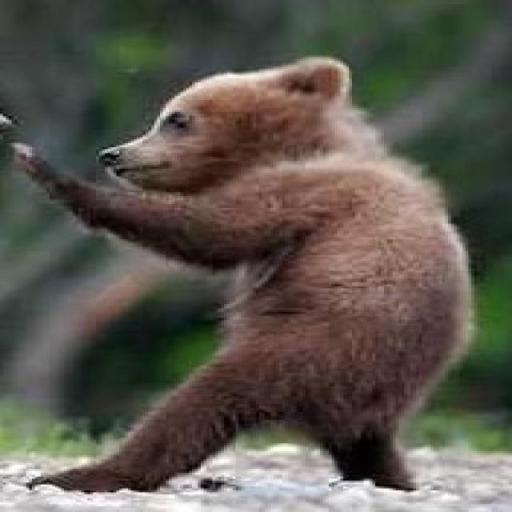Bear: (6, 55, 477, 492)
